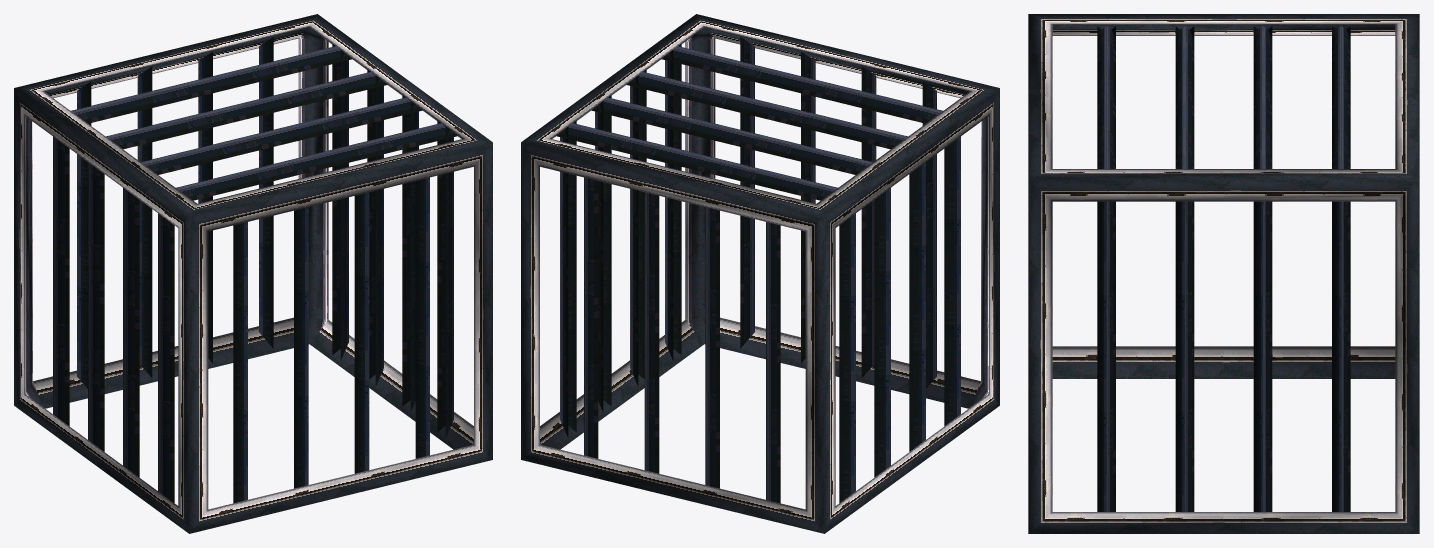
Rendered from ORI.obj.
3 renders of one model, left to right at view 1: azimuth 30°, elevation 25°; view 2: azimuth 150°, elevation 25°; view 3: azimuth 270°, elevation 25°, orthographic. The views are drawn at different scales.
Size of the model in its own units: 20 by 20 by 20.
Materials: 1 (1 with a texture image).
